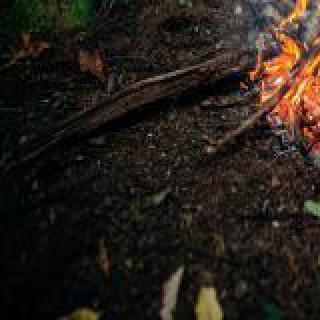fire: (260, 0, 320, 144)
